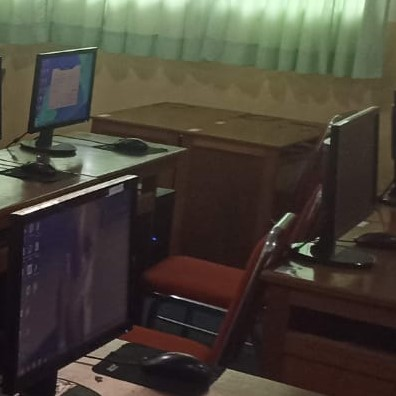monitor: (1, 174, 139, 388), (316, 105, 381, 261), (27, 47, 98, 136)
